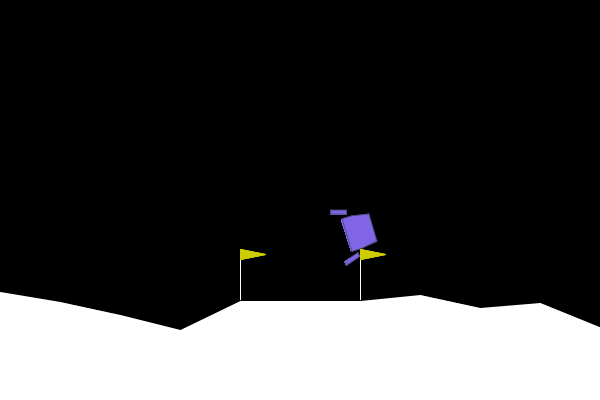lander: (328, 198, 383, 267)
